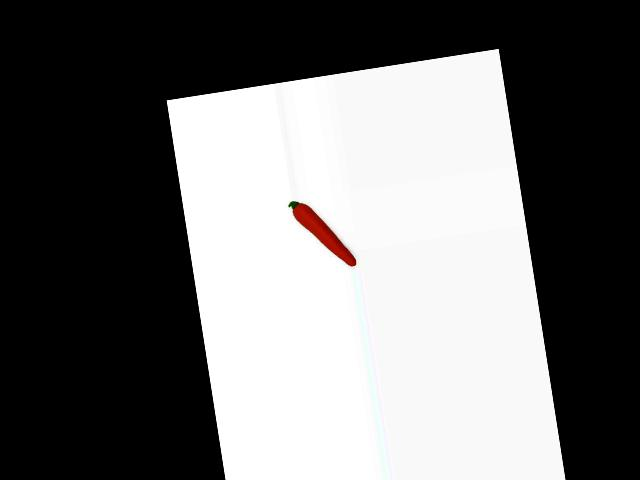carrot: (289, 195, 360, 275)
